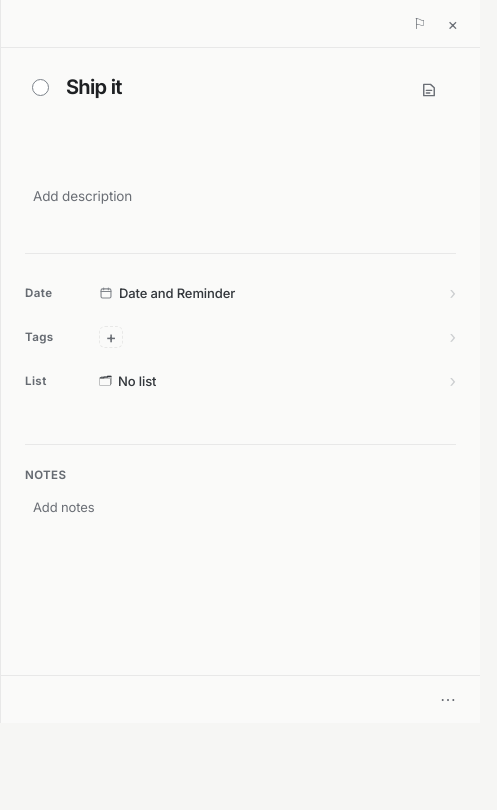
it: the sections a Task has to ask for › opens the dependency section
The width and height of the screenshot is (497, 810).
Expected: the field labelled "Waiting on" is not shown
Click the button named "More": {"x": 448, "y": 699} x1=432 y1=683 x2=464 y2=715
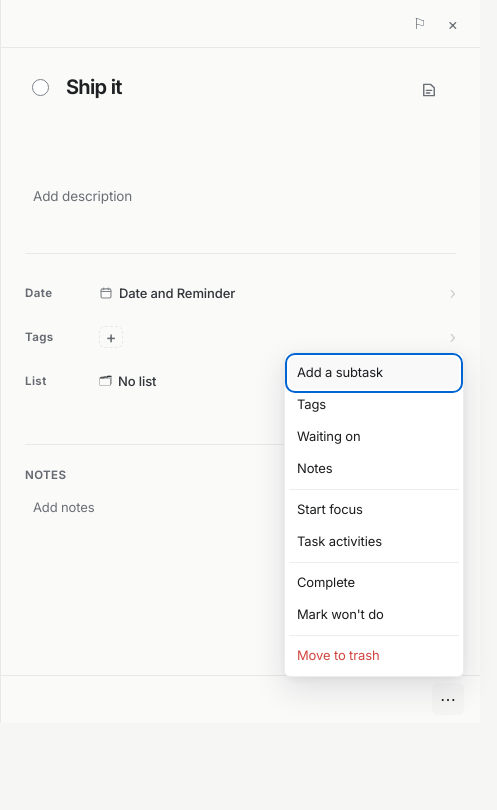
Click the menu item "Waiting on": {"x": 374, "y": 437} x1=289 y1=421 x2=459 y2=453
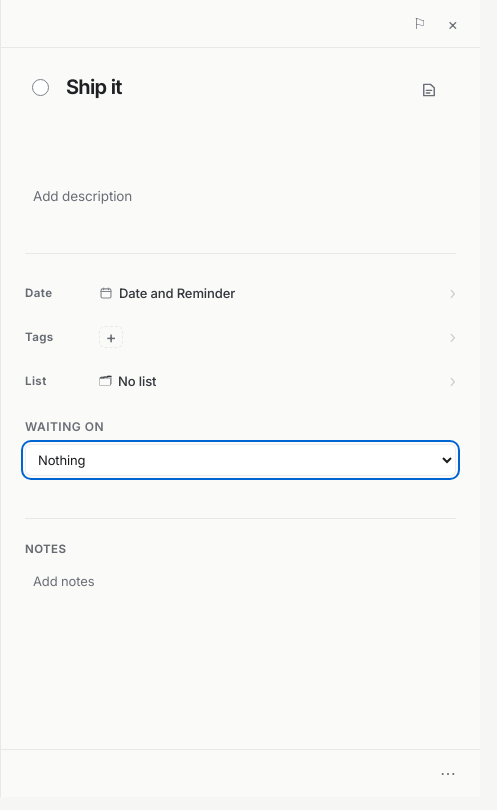
Expected: the dropdown named "Waiting on" is shown, x1=25 y1=444 x2=456 y2=476
